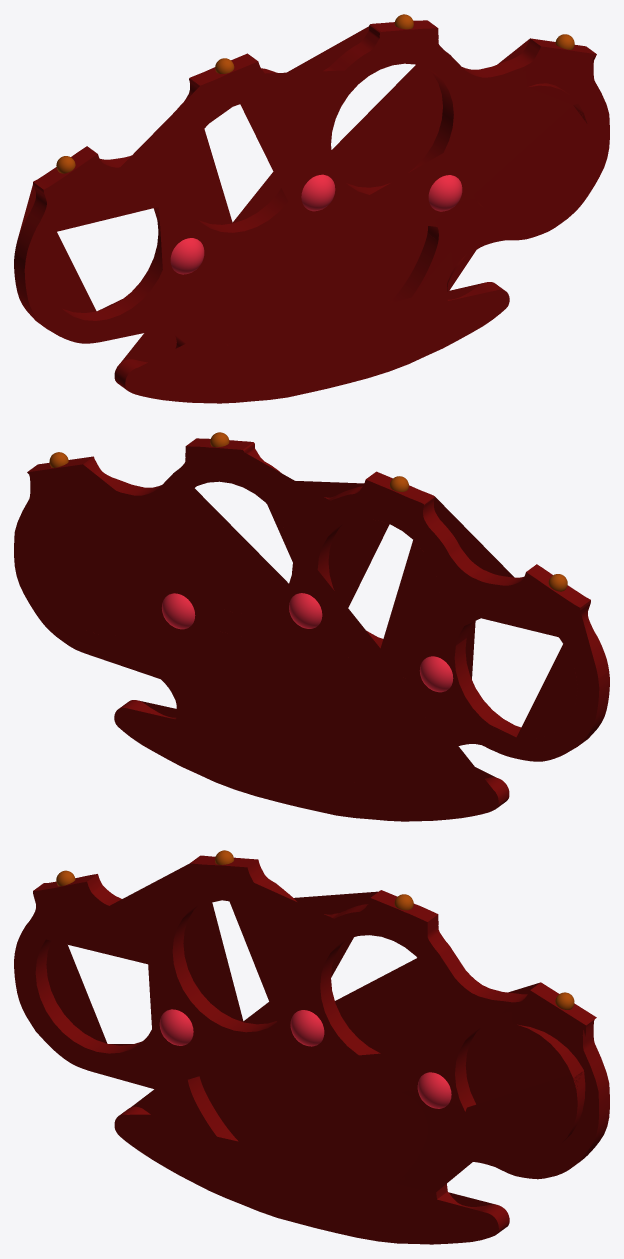
File: PuñoFuego.fbx
The picture shows the model from 3 angles, top to bottom: view 1: azimuth 30°, elevation 25°; view 2: azimuth 150°, elevation 25°; view 3: azimuth 330°, elevation 25°; orthographic projection.
Visible parts, largest first — view 1: BezierCurve, Sphere.002, Sphere.001, Sphere; view 2: BezierCurve, Sphere, Sphere.001, Sphere.002; view 3: BezierCurve, Sphere.002, Sphere.001, Sphere.
Boxes of the visible parts, x1,y1,x2,y2 form: BezierCurve: (14,20,609,403); Sphere.002: (428,175,462,211); Sphere.001: (301,174,335,211); Sphere: (170,238,204,274); BezierCurve: (14,438,609,821); Sphere: (419,656,453,692); Sphere.001: (289,593,322,628); Sphere.002: (162,593,195,629); BezierCurve: (14,855,609,1244); Sphere.002: (417,1072,451,1108); Sphere.001: (290,1010,324,1046); Sphere: (159,1009,193,1045).
Bounding box in the file's own units: 1001 × 571 × 66.22.
